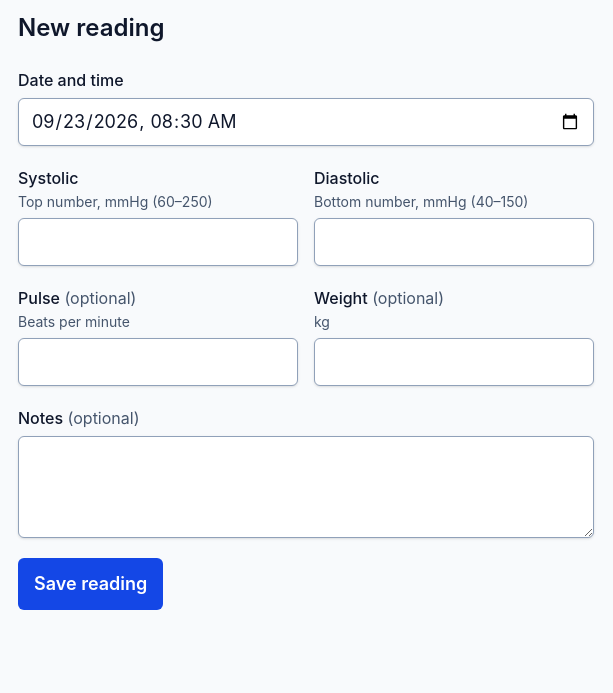
it: NewReading › server errors › keeps the values and shows an alert after a network error
Type "118" into the field labelled "Systolic" at (158, 242), box [18, 218, 298, 266]
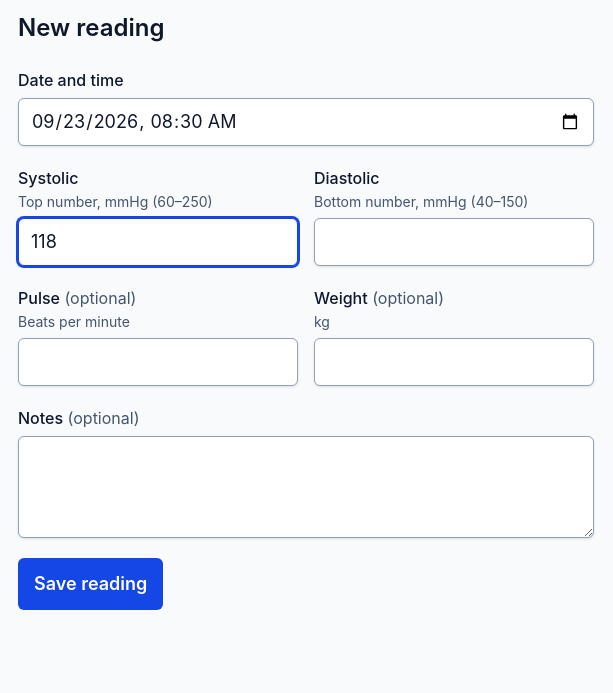
Type "76" into the field labelled "Diastolic" at (454, 242), box [314, 218, 594, 266]
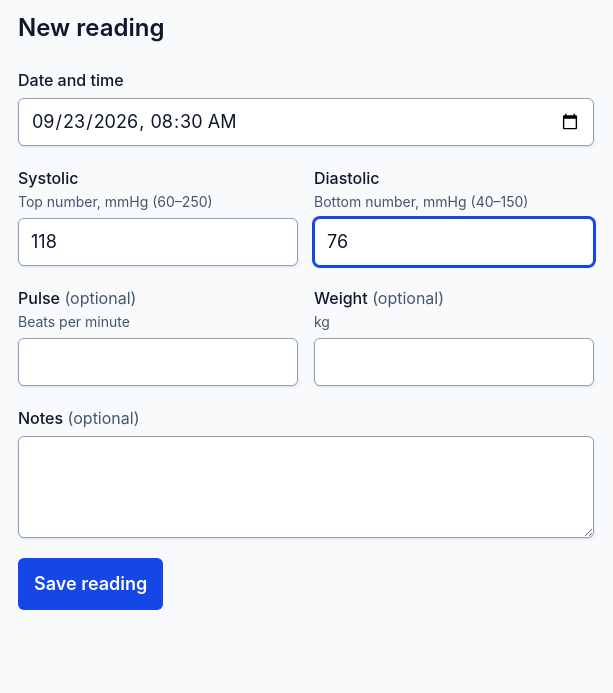
Click the button "Save reading" at (91, 584), box [18, 558, 163, 610]
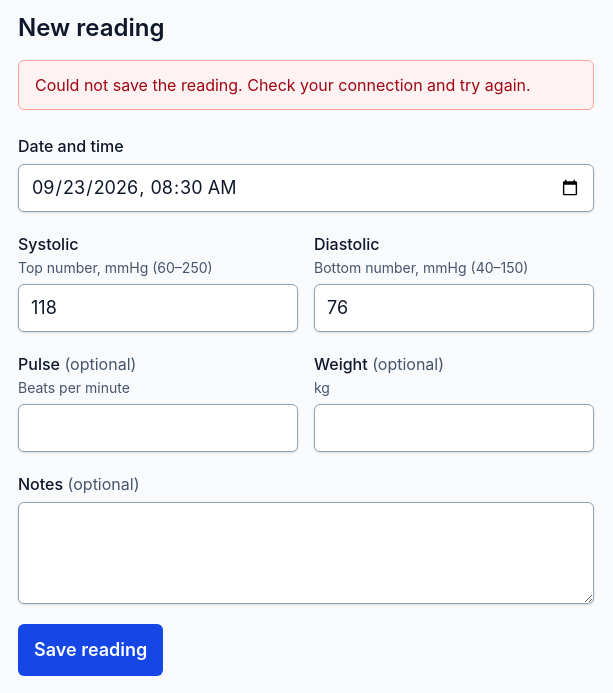
Check: the message shows "Could not save the reading.", box [35, 75, 531, 95]
